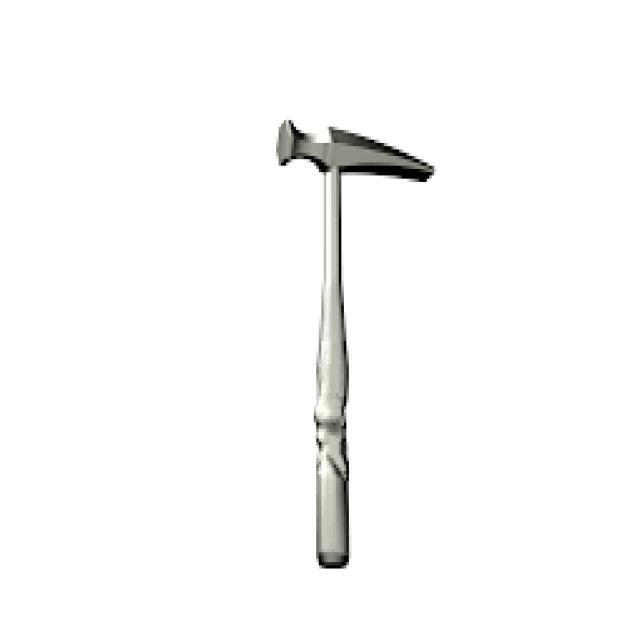Palu: (264, 102, 440, 564)
